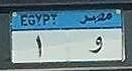1: (36, 34, 42, 56)
waw: (88, 34, 105, 54)
